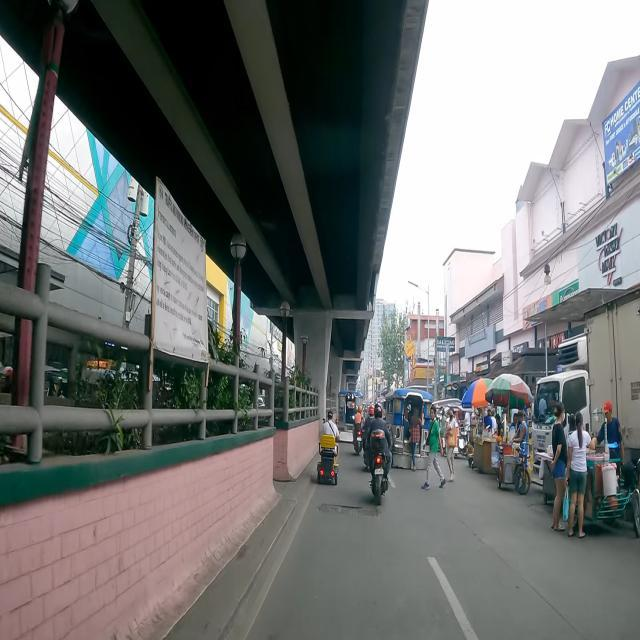jeepney: (386, 388, 434, 470), (338, 391, 363, 442)
motorcycle: (367, 401, 392, 506), (362, 404, 376, 472), (352, 404, 364, 455)
truck: (584, 288, 640, 471), (532, 332, 590, 487)
